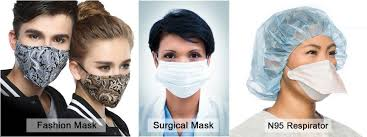with-mask: (70, 7, 137, 112), (147, 8, 218, 100), (279, 20, 348, 113), (7, 1, 75, 89)
